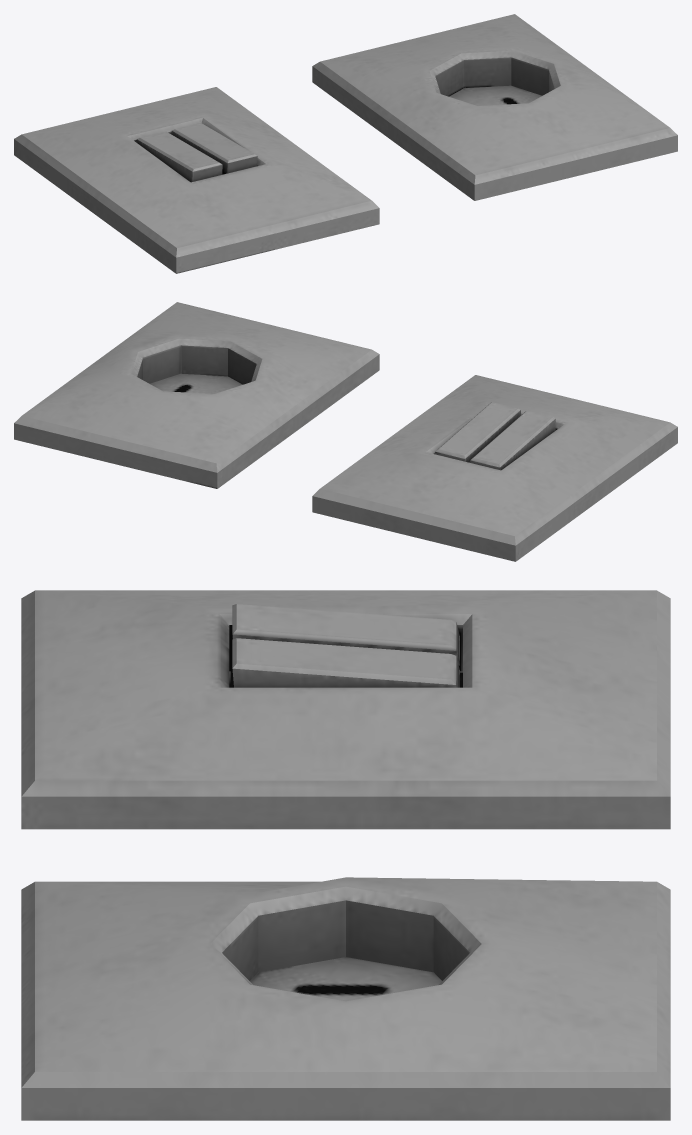
The model's file is SM_Keys.fbx.
The picture shows the model from 3 angles, top to bottom: view 1: azimuth 30°, elevation 25°; view 2: azimuth 150°, elevation 25°; view 3: azimuth 270°, elevation 25°; orthographic projection. The views are drawn at different scales.
Visible parts, largest first — view 1: Keys; view 2: Keys; view 3: Keys.
Part boxes in pixels (x1,y1,x2,y2): Keys: [14, 14, 677, 273]; Keys: [14, 302, 677, 561]; Keys: [21, 590, 670, 1120].
Size of the model in its own units: 40.34 by 3.7 by 22.6.
